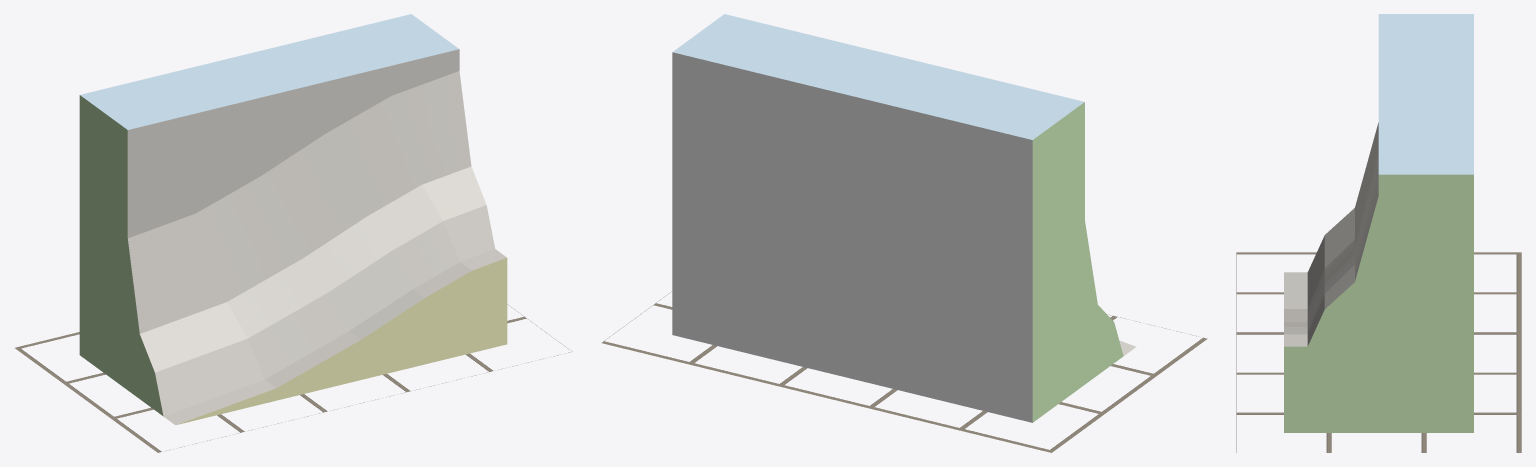
Rendered from Wall_Incline_2x4_Base.glb.
3 views of the same model, side by side, from view 1: azimuth 30°, elevation 25°; view 2: azimuth 150°, elevation 25°; view 3: azimuth 270°, elevation 25° (orthographic). The views are drawn at different scales.
Parts seen in each view (by area): view 1: Wall_Incline_2x4_Base, Floor; view 2: Wall_Incline_2x4_Base, Floor; view 3: Wall_Incline_2x4_Base, Floor.
Boxes of the visible parts, left/top/right/bottom form: Wall_Incline_2x4_Base: left=79, top=14, right=507, bottom=425; Floor: left=15, top=305, right=572, bottom=452; Wall_Incline_2x4_Base: left=672, top=14, right=1136, bottom=422; Floor: left=602, top=291, right=1207, bottom=452; Wall_Incline_2x4_Base: left=1284, top=14, right=1473, bottom=432; Floor: left=1236, top=252, right=1521, bottom=452.
Bounding box in the file's own units: 500 × 300 × 300.
6 materials, 1 textured.
